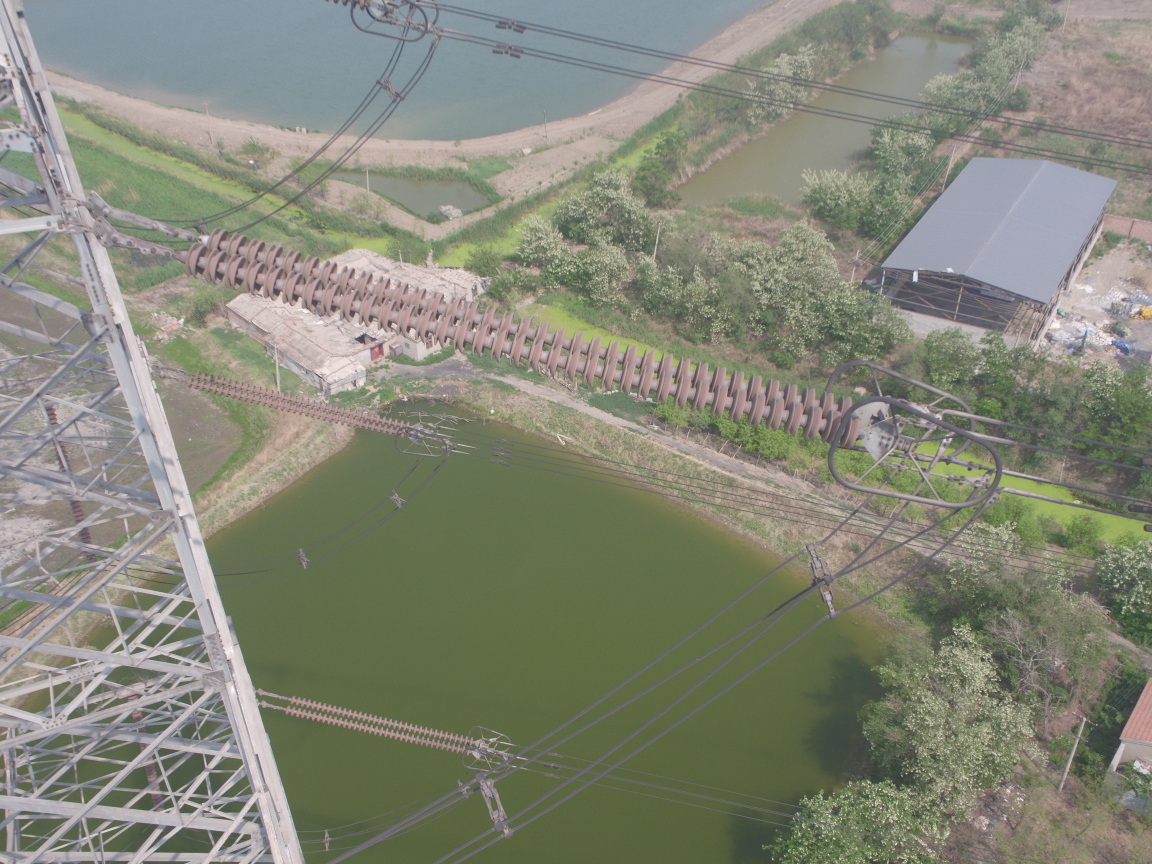insulator: (179, 218, 881, 453), (174, 369, 421, 442), (273, 691, 486, 757)
